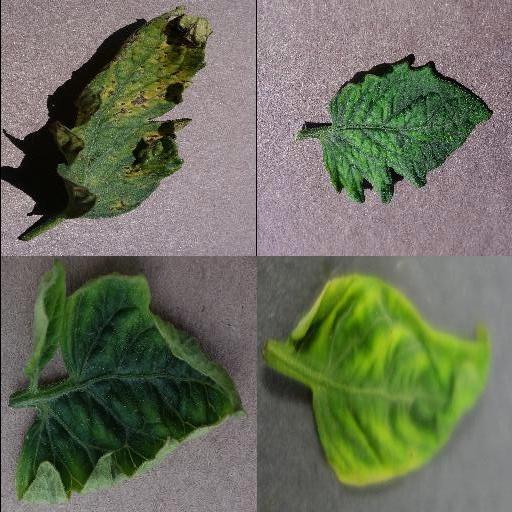Mosaic Virus: (321, 61, 493, 207)
Septoria: (56, 6, 213, 220)
Yellow Leaf Curl Virus: (15, 261, 251, 504), (288, 275, 490, 487)
